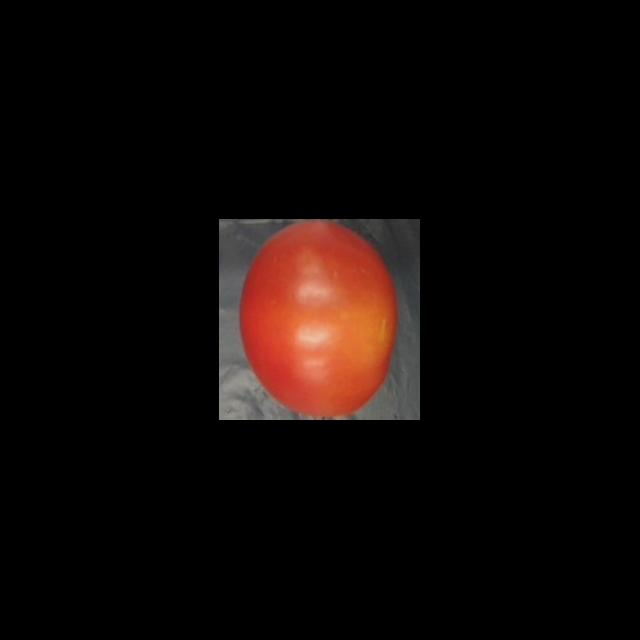tomato: (236, 220, 404, 420)
